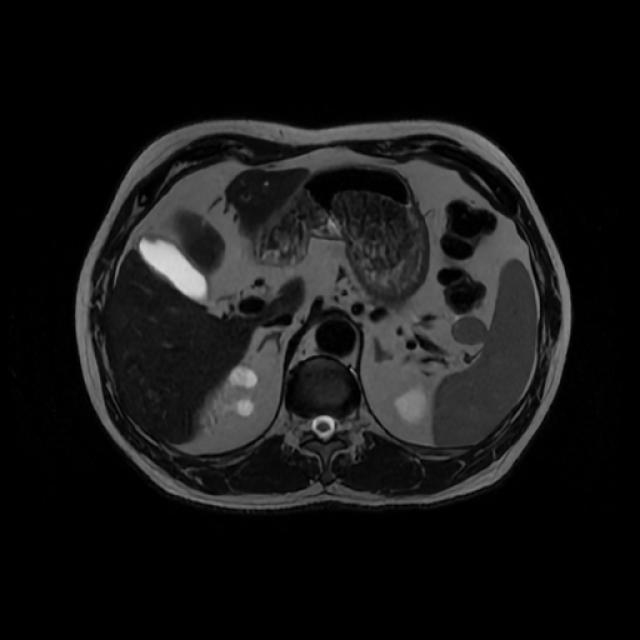sag: (229, 367, 260, 414)
sol: (397, 388, 429, 426)
